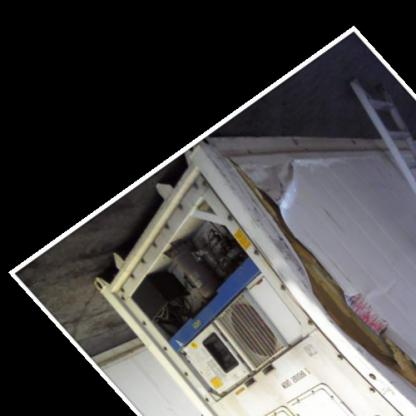Damage: (258, 160, 411, 406)
